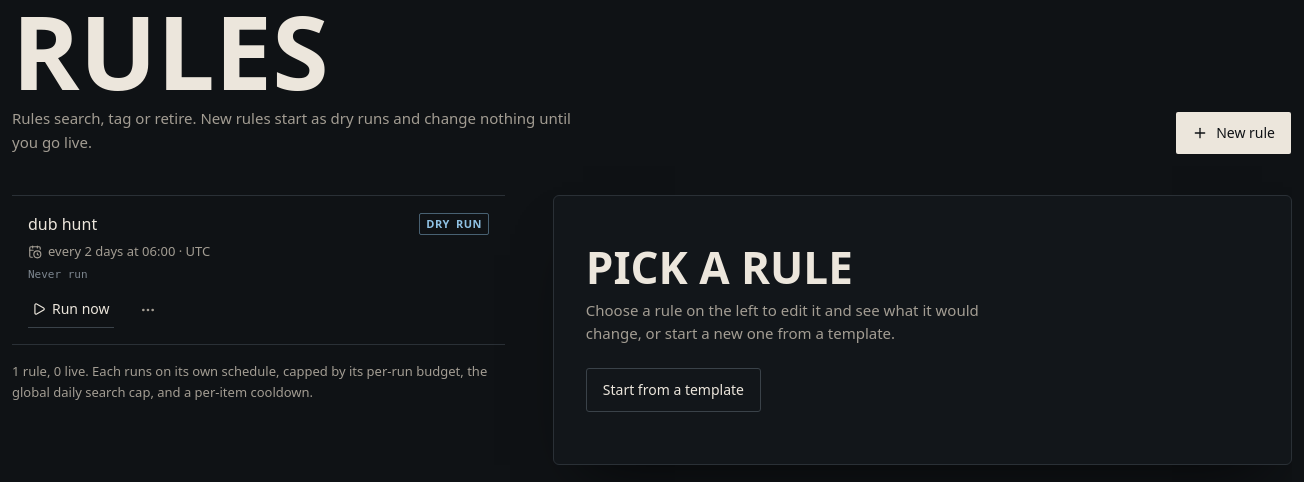
Test: AutomationsPage › opens the template picker in the side panel instead of stacking it on the page
The image size is (1304, 482).
Expected: the text "pick a starting point" is not shown
Click the button "New rule". click: [1234, 133]
box: [1175,111,1292,155]
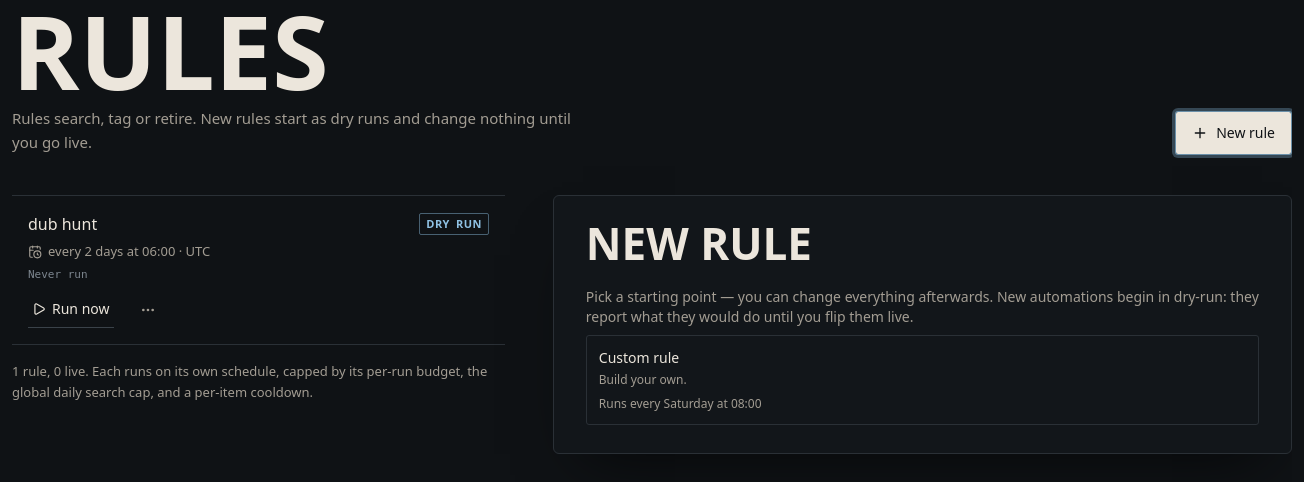
Now the text "Pick a starting point" is shown, box [586,287,1259,326]
